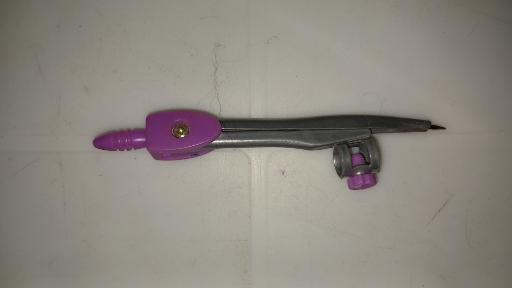Compass: (90, 111, 448, 189)
